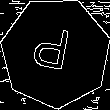P_S: (33, 24, 78, 81)
